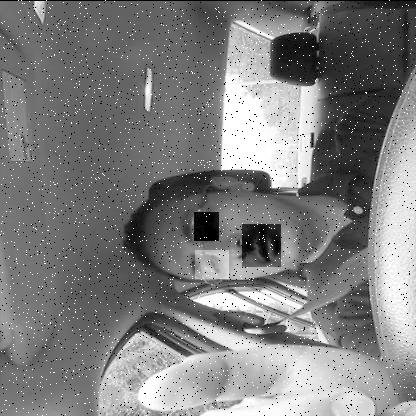seatbelt: (110, 129, 394, 338)
